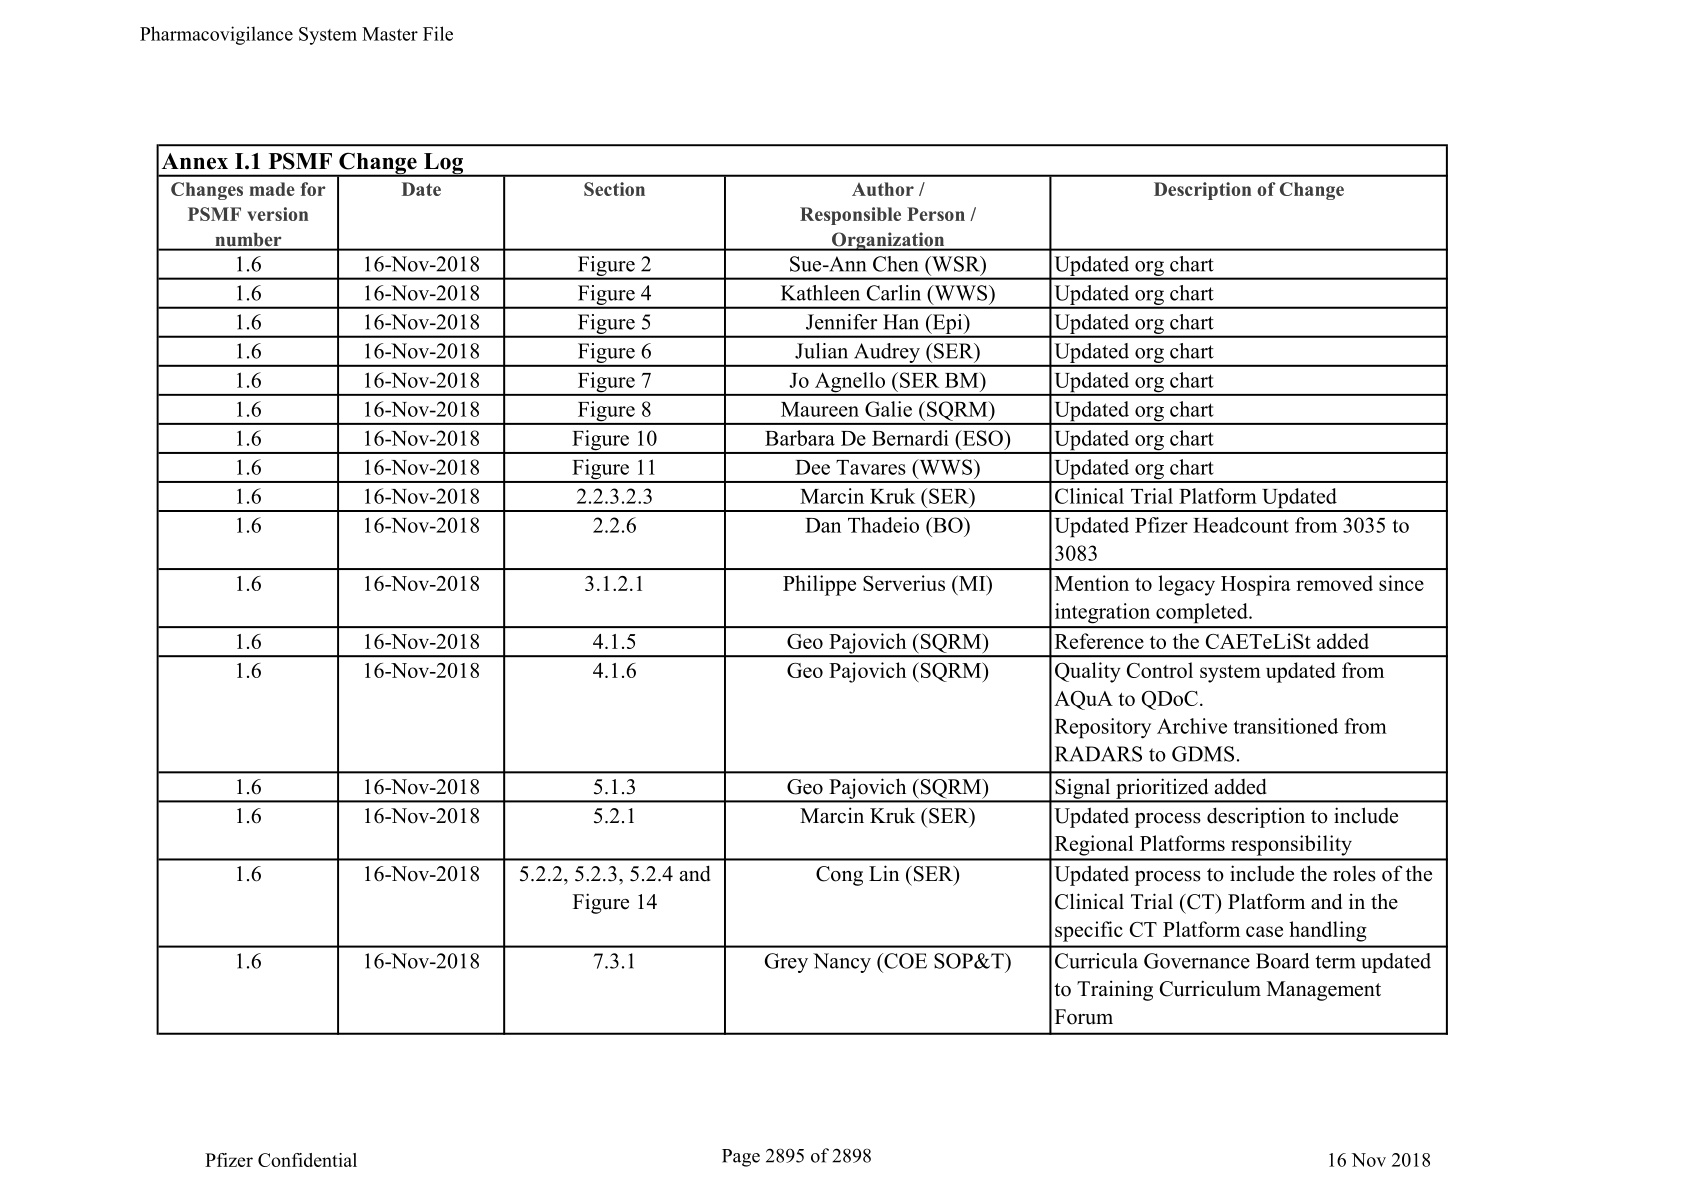full_lined: (156, 144, 1448, 1035)
